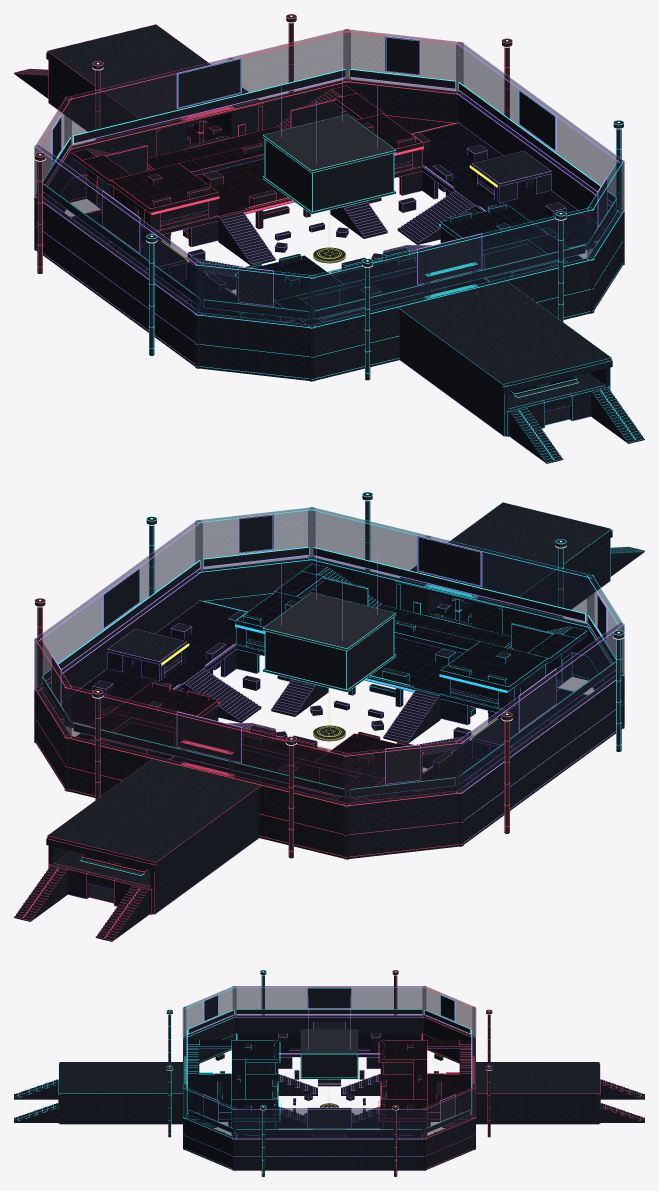
File: kb_arena.glb
3 renders of one model, top to bottom at view 1: azimuth 30°, elevation 25°; view 2: azimuth 150°, elevation 25°; view 3: azimuth 270°, elevation 25°, orthographic. The views are drawn at different scales.
Parts seen in each view (by area): view 1: skin; view 2: skin; view 3: skin.
Part boxes in pixels (bbox=[...]): skin: bbox=[14, 14, 644, 463]; skin: bbox=[14, 492, 644, 941]; skin: bbox=[14, 970, 644, 1176].
Size of the model in its own units: 140 by 49.53 by 271.
24 materials, 6 textured.
